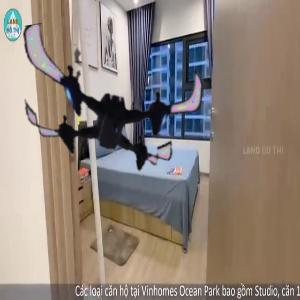drone: (23, 12, 209, 198)
